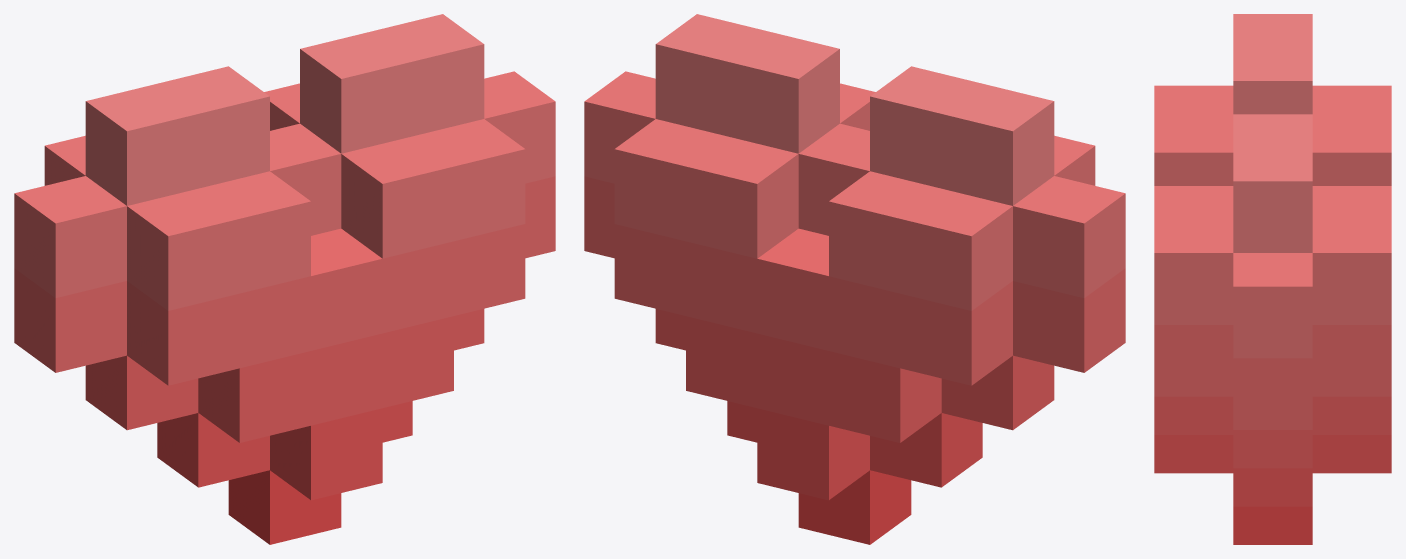
File: heart.obj
3 views of the same model, side by side, from view 1: azimuth 30°, elevation 25°; view 2: azimuth 150°, elevation 25°; view 3: azimuth 270°, elevation 25° (orthographic). The views are drawn at different scales.
Size of the model in its own units: 0.7 by 0.6 by 0.3.
Materials: 1 (1 with a texture image).
